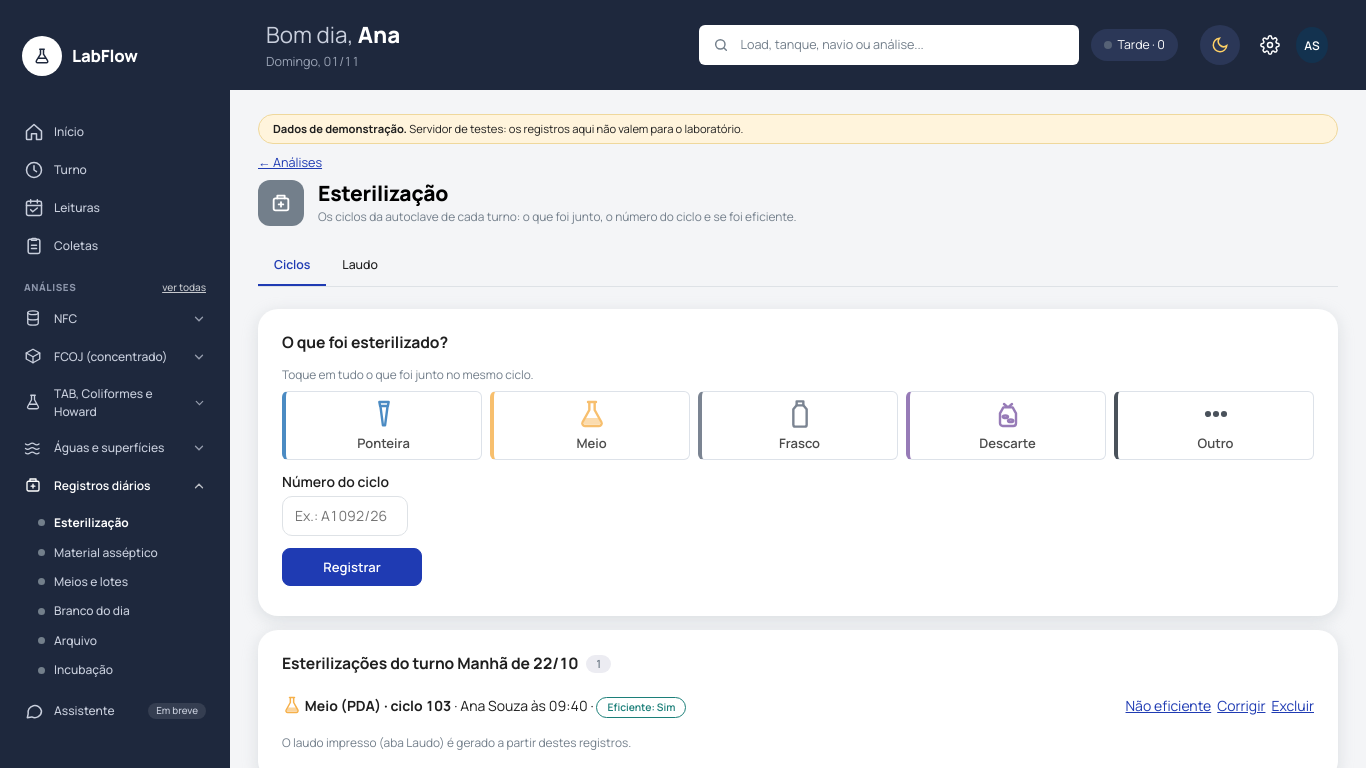
Scenario: Esterilização (APP-026) › registra com tipo e ciclo; o meio só aparece no tipo Meio
This screenshot has width=1366, height=768.
Expected: the field labelled "Nome do meio" is not shown
Click the button "Meio". click: (590, 426)
box: [490,391,690,460]
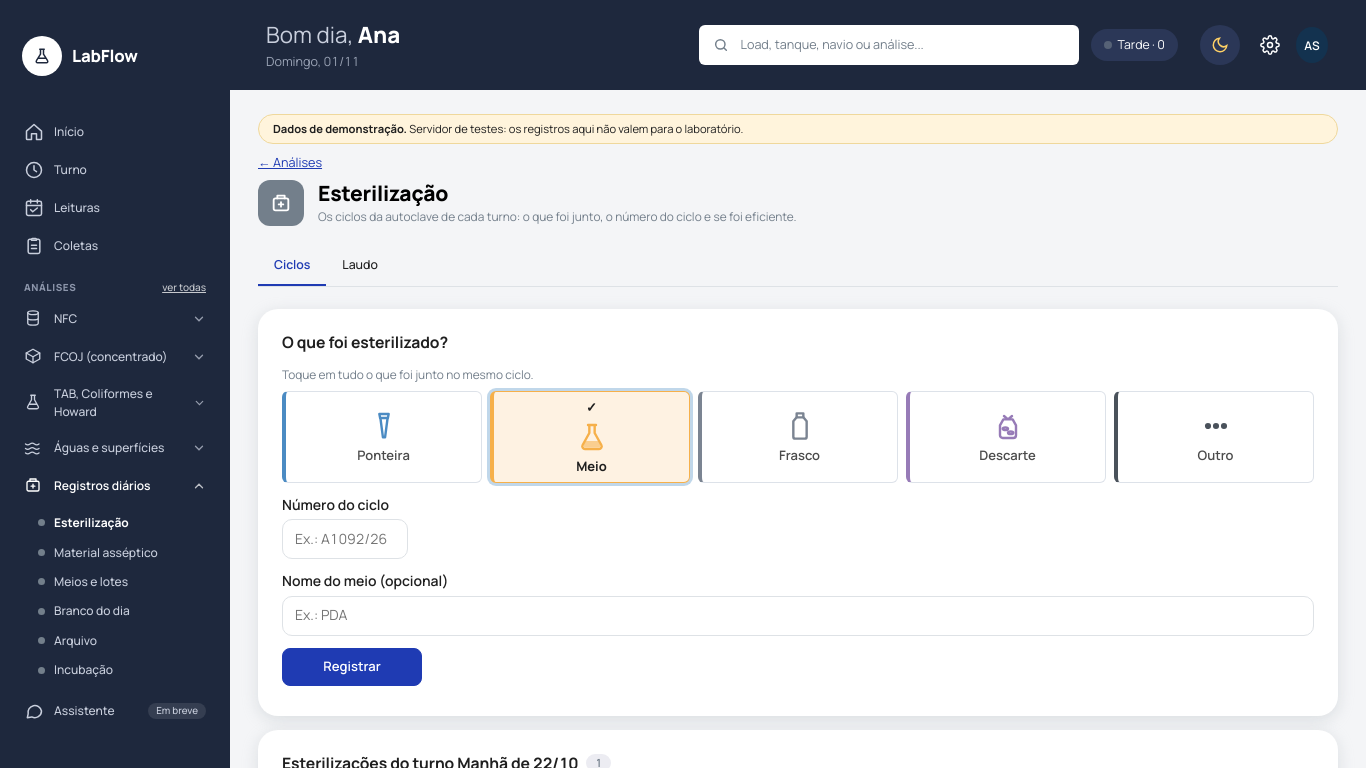
Now the field labelled "Nome do meio (opcional)" is shown, box [282,596,1314,636]
Click the button "Meio". click: (590, 437)
box: [490,391,690,483]
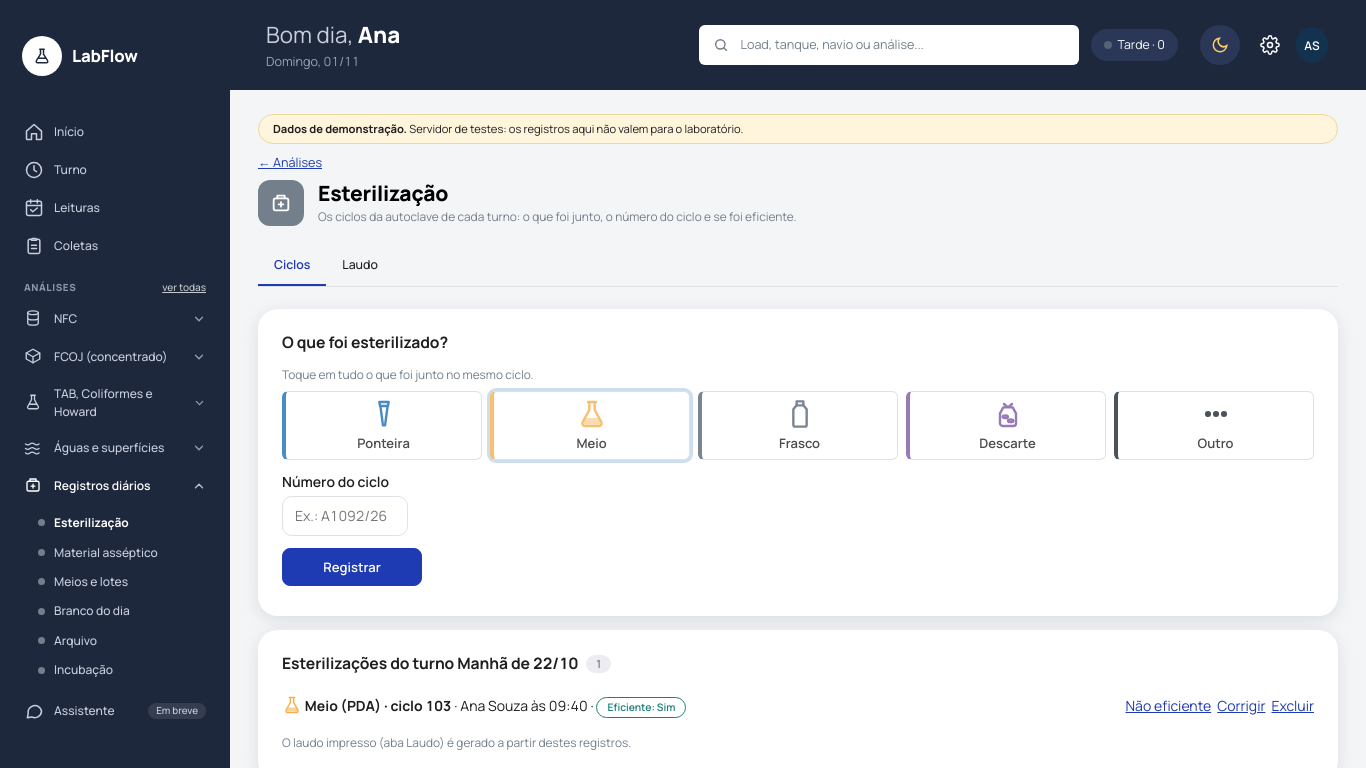
Now the label labelled "Nome do meio" is gone
Click the button "Ponteira". click: (382, 426)
box: [282,391,482,460]
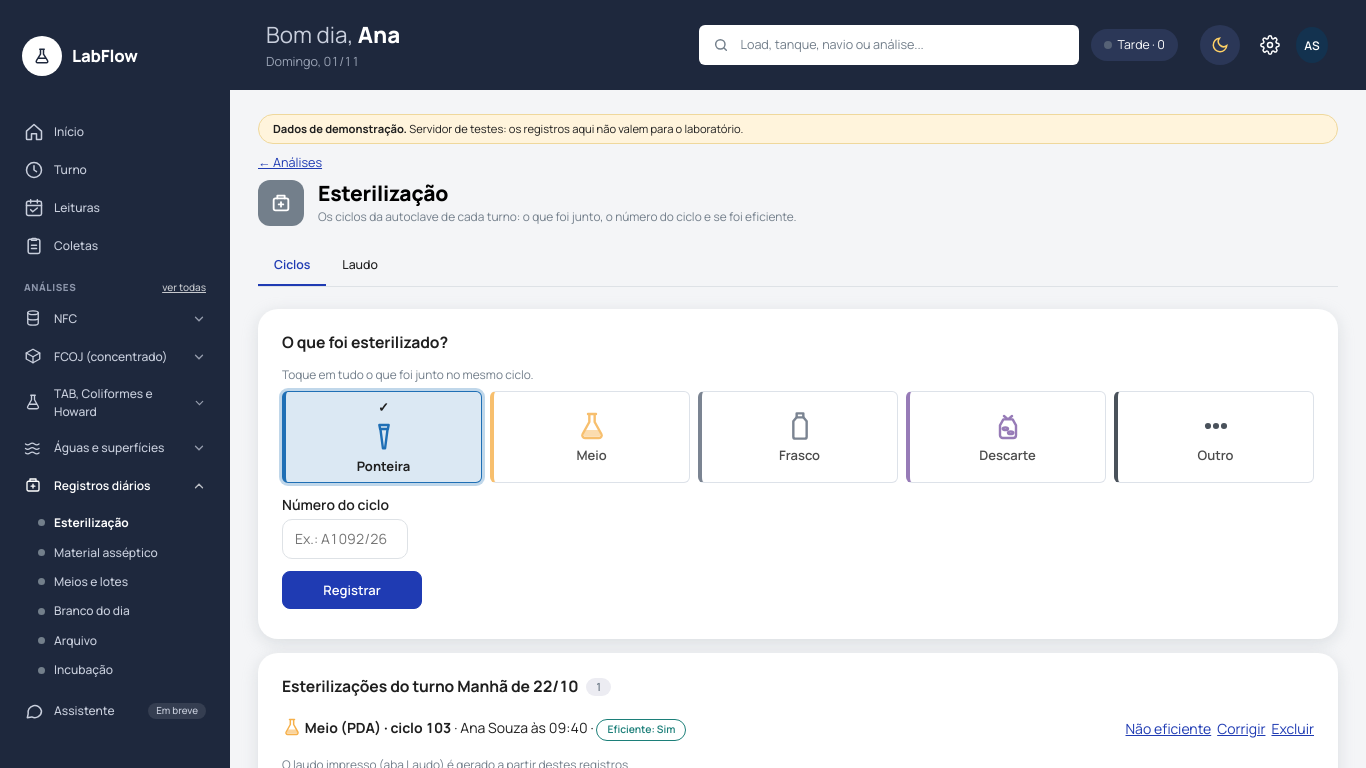
Type "102" into the field labelled "Número do ciclo". click: (345, 539)
box: [282,519,408,559]
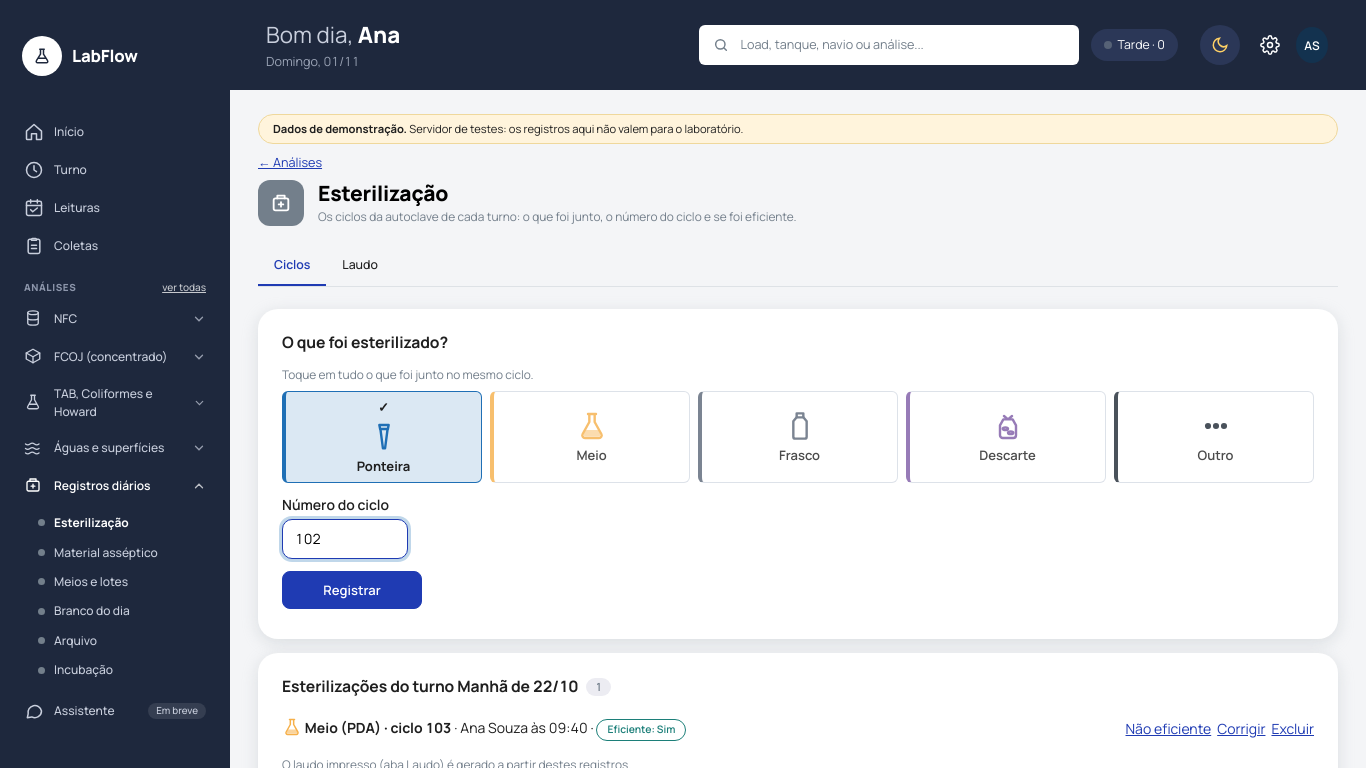
Click the button "Registrar". click: (352, 590)
box: [282,571,422,609]
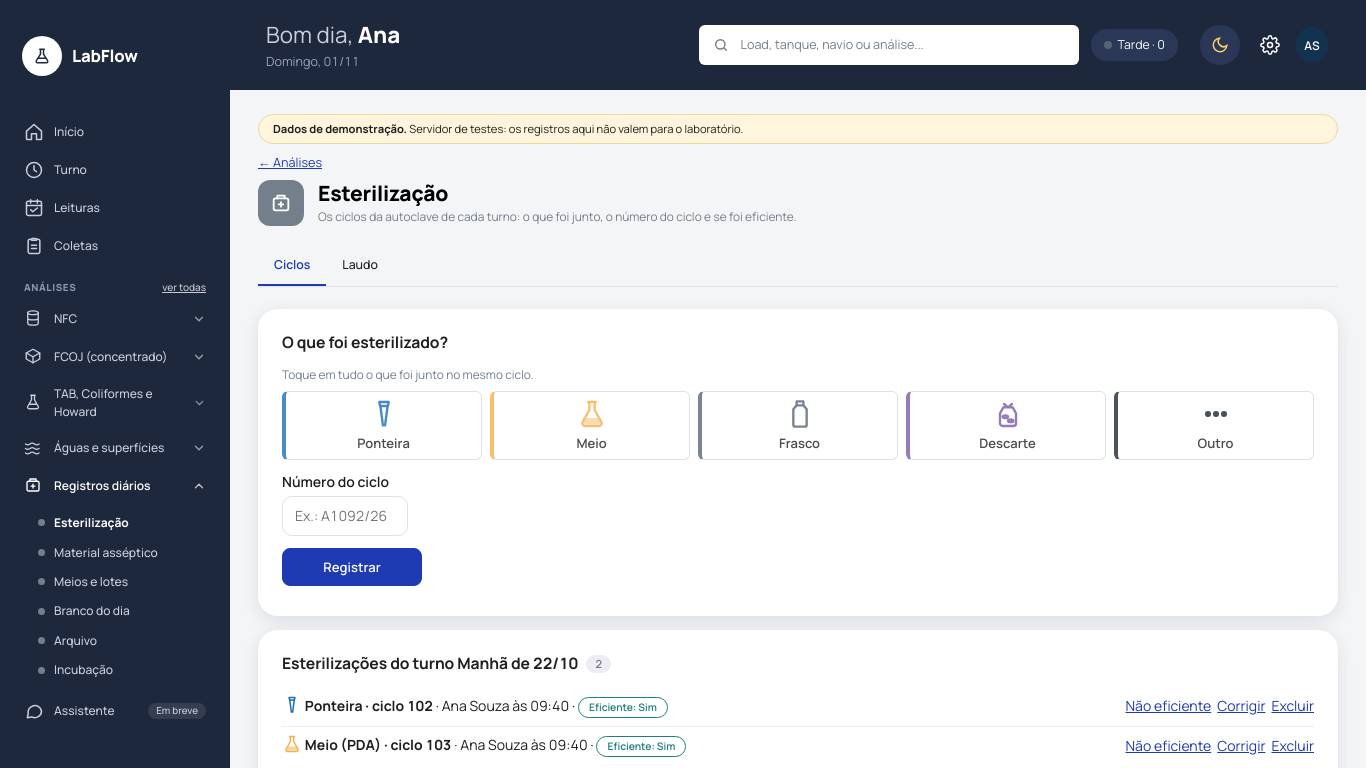
Now the text "Ponteira · ciclo 102" is shown, box [305,696,433,715]
